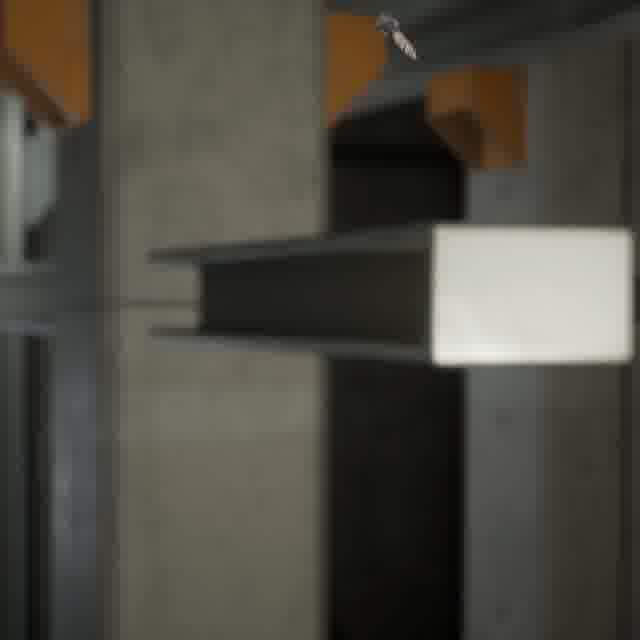bolt: (371, 9, 422, 63)
